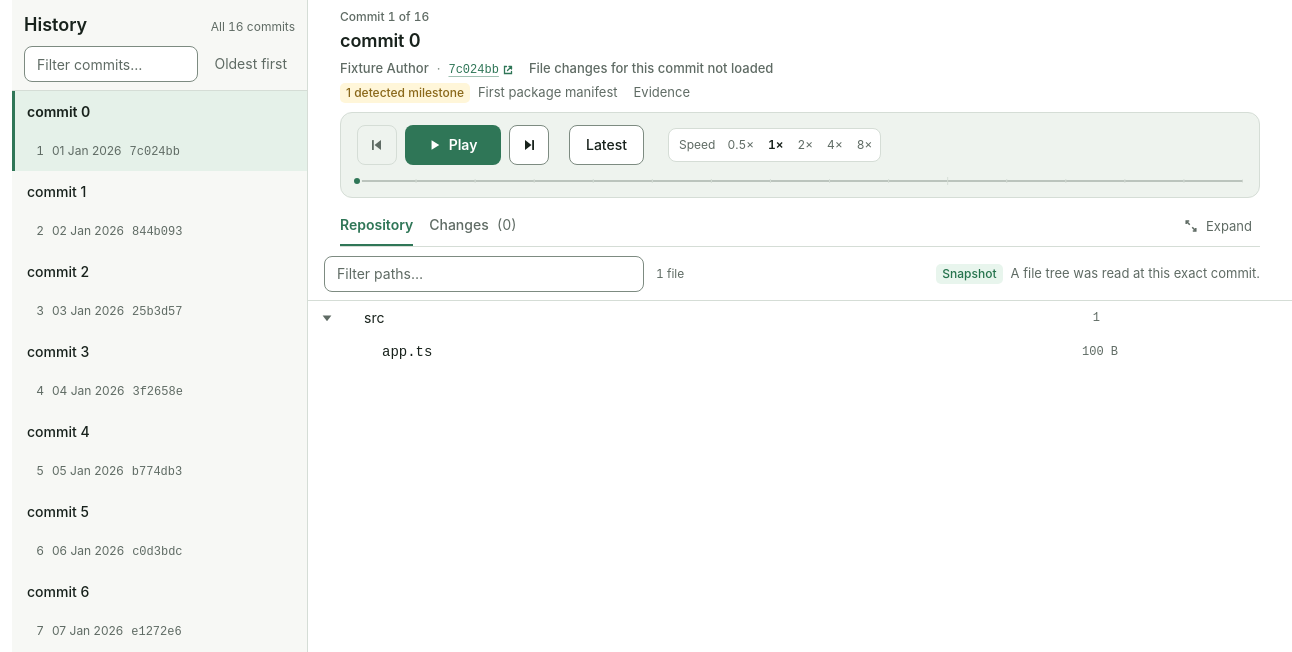
Test case: ReplayView milestones › shows the rule and the evidence on request
Click the button "Evidence".
click(662, 92)  # box [626,80,698,104]
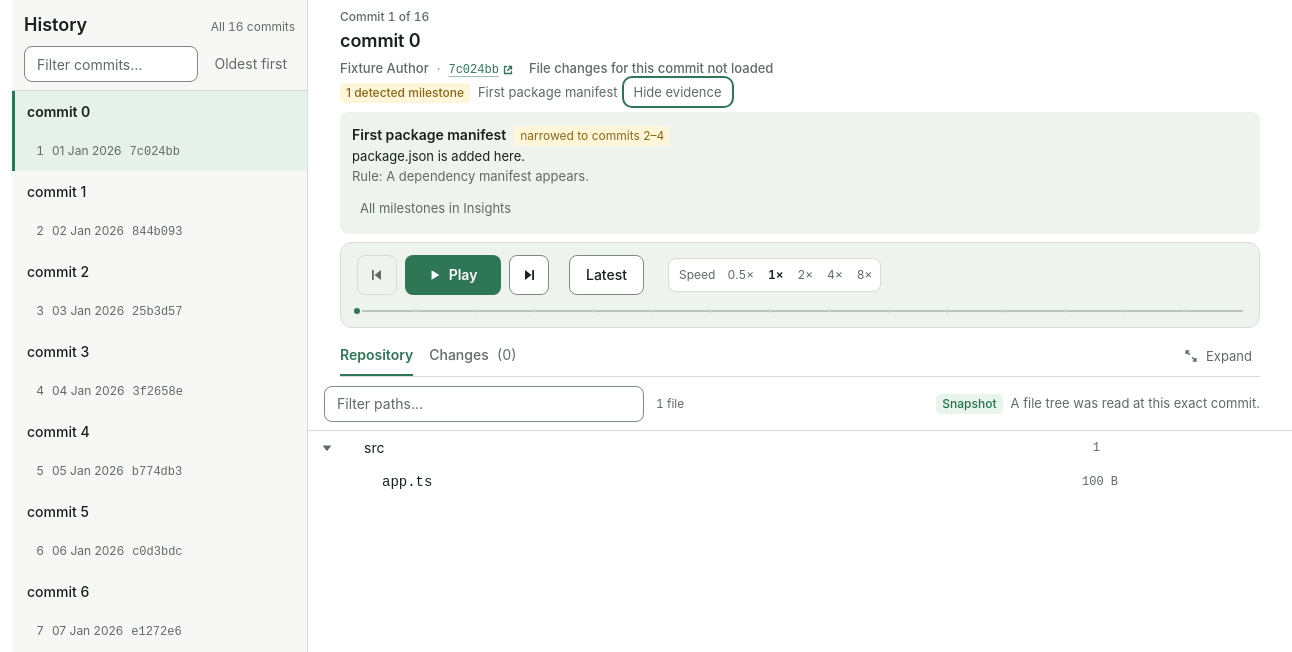
Expected: the text "package.json is added here." is shown, [352,148,525,164]
Expected: the text "Rule: A dependency manifest appears." is shown, [352,168,589,184]
Expected: the text "narrowed to commits 2–4" is shown, [514,126,670,146]
